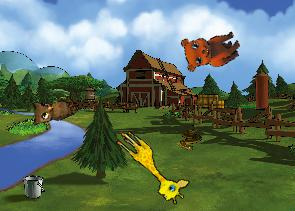bear: (175, 17, 245, 79)
giraffe: (106, 126, 194, 208)
owl: (25, 86, 79, 130)
